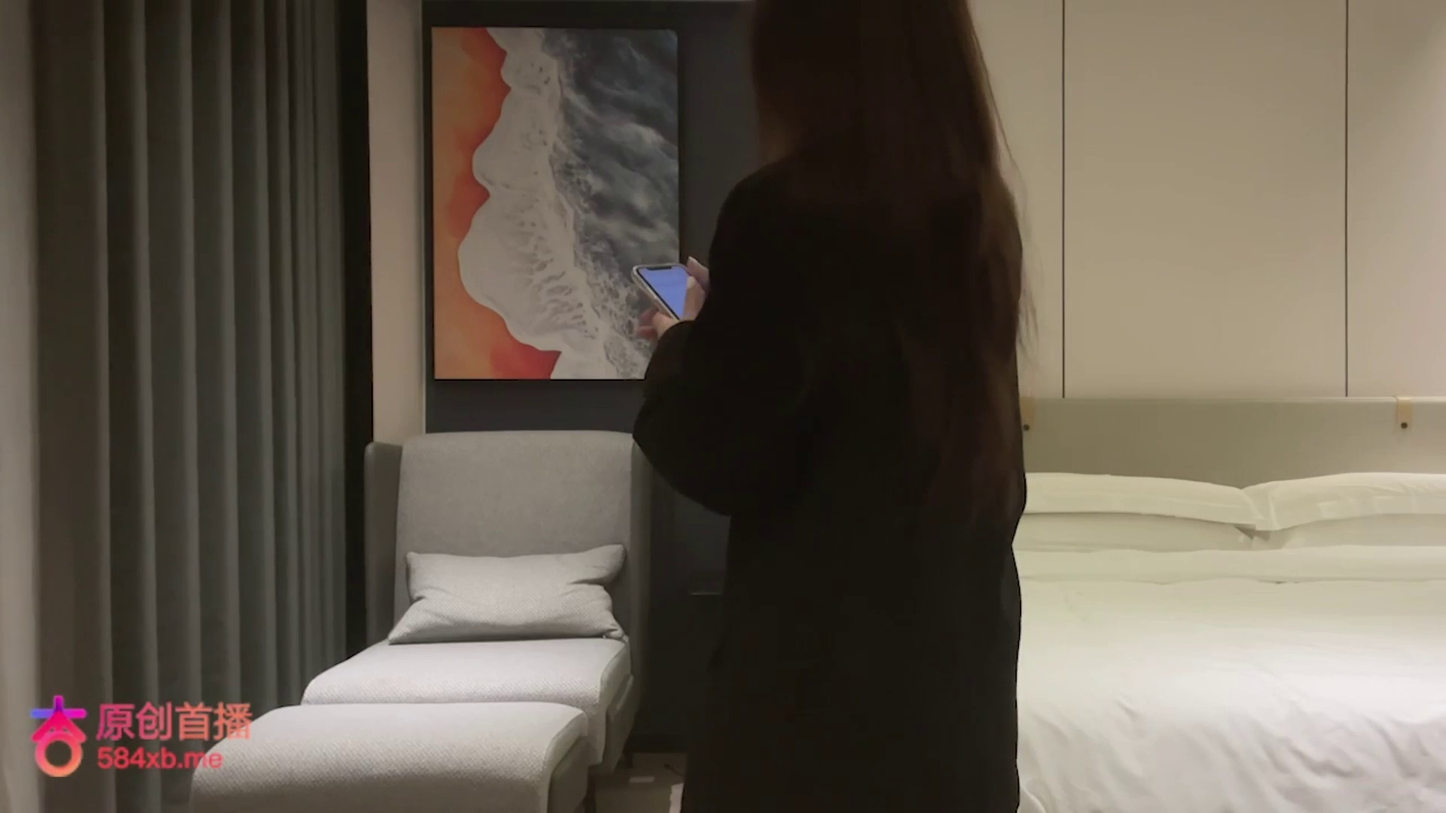stand: (630, 2, 1030, 813)
